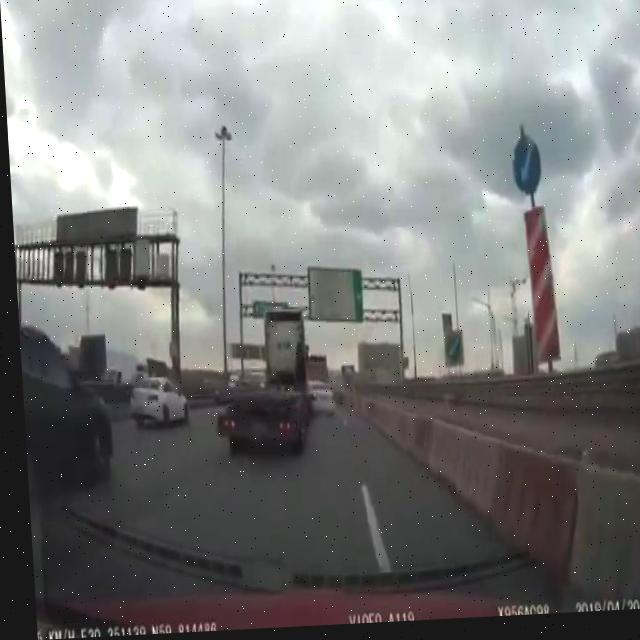normal: (214, 301, 375, 466)
